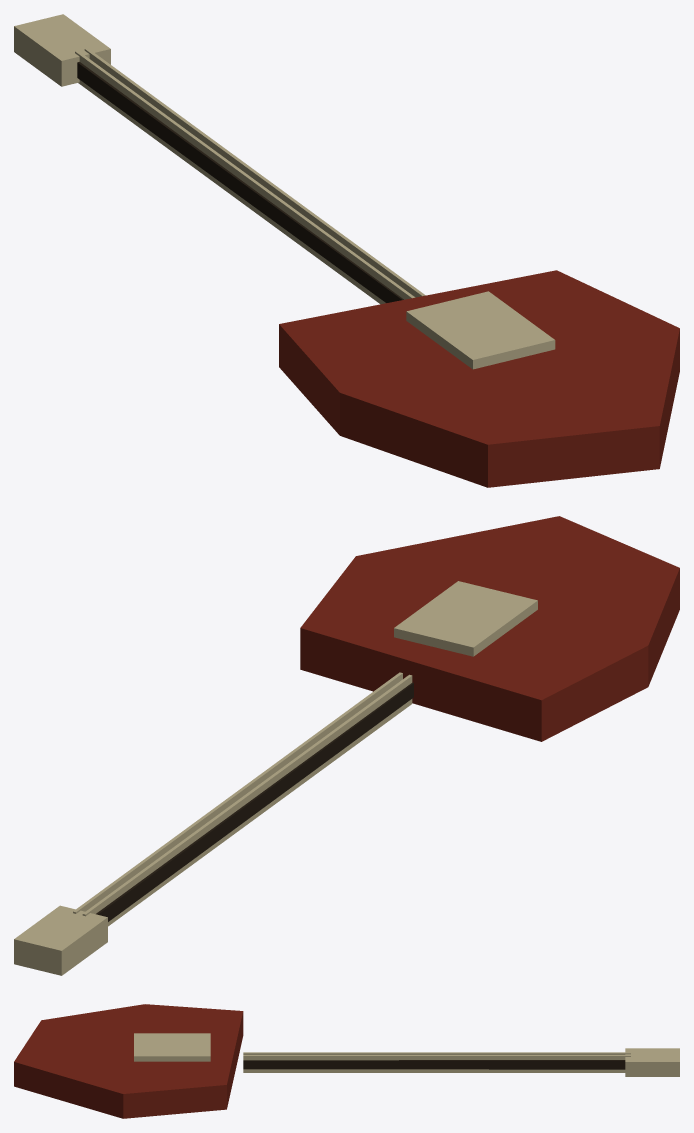
Rendered from bass_guitar.glb.
3 views of the same model, one above another, from view 1: azimuth 30°, elevation 25°; view 2: azimuth 150°, elevation 25°; view 3: azimuth 270°, elevation 25° (orthographic). The views are drawn at different scales.
Parts seen in each view (by area): view 1: bass_guitar; view 2: bass_guitar; view 3: bass_guitar.
Boxes of the visible parts, x1,y1,x2,y2 form: bass_guitar: (14,14,679,487); bass_guitar: (14,516,679,975); bass_guitar: (14,1004,679,1118).
Bounding box in the file's own units: 0.39 × 0.061 × 1.22.
